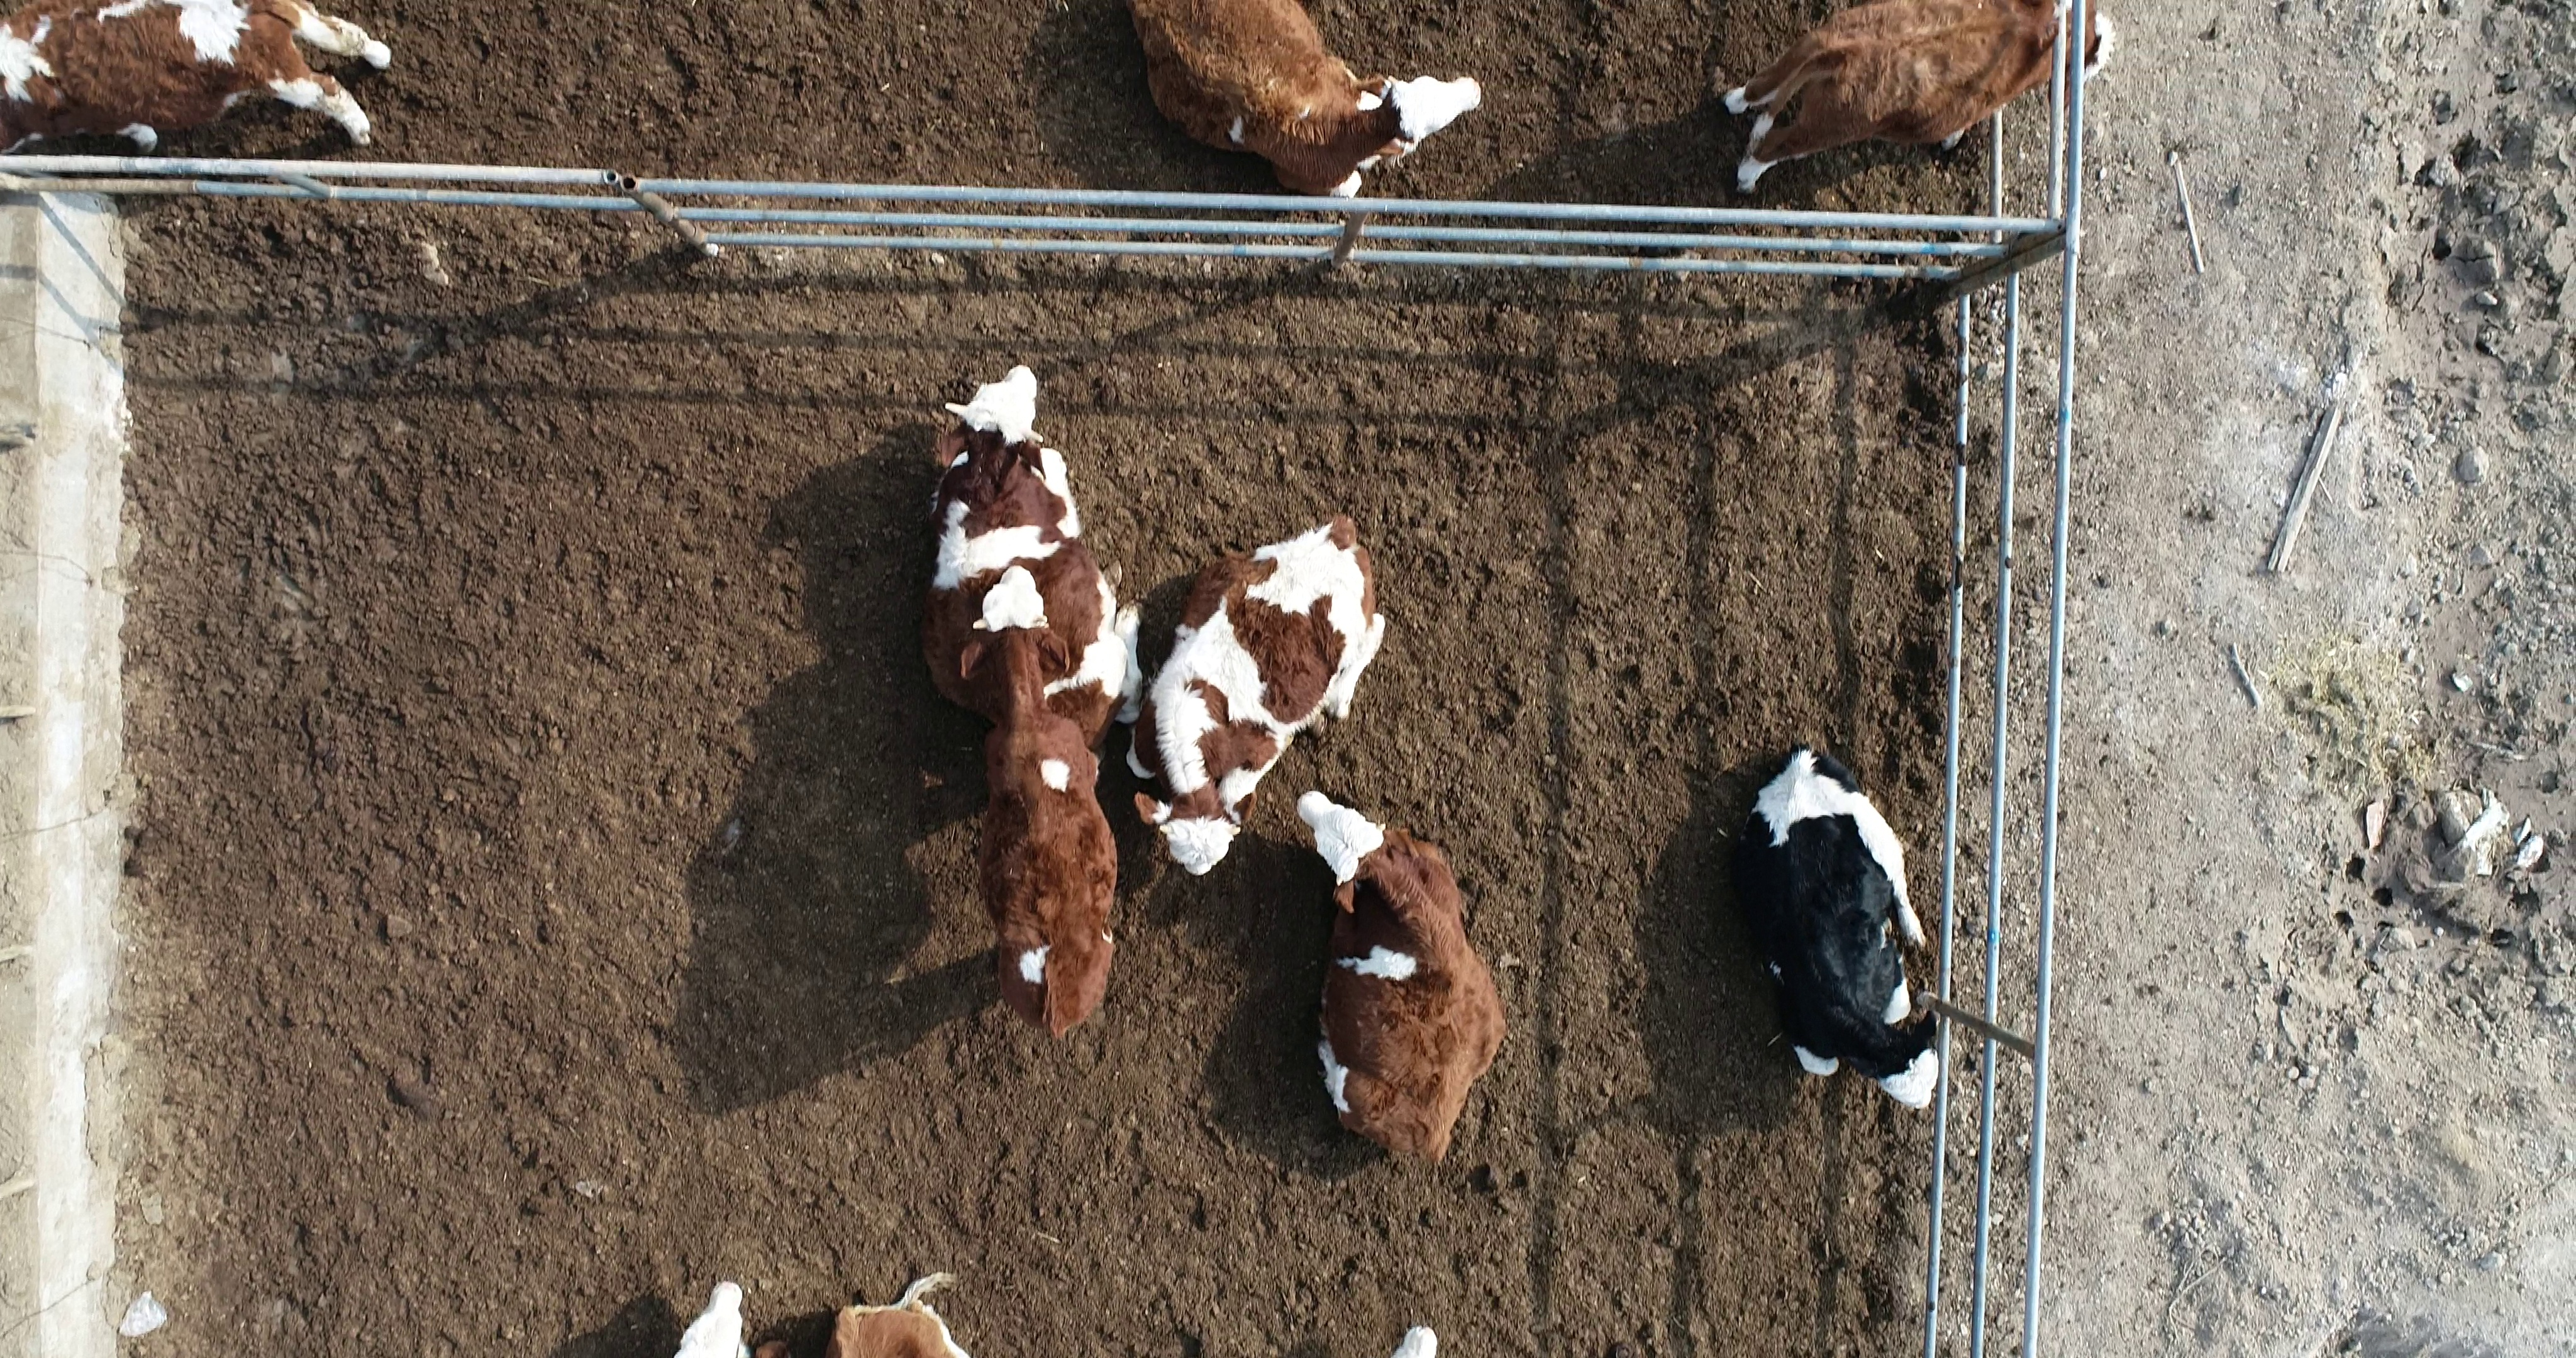cattle: (1123, 509, 1392, 879), (1288, 784, 1513, 1171), (1726, 741, 1944, 1111), (964, 562, 1123, 1048)
